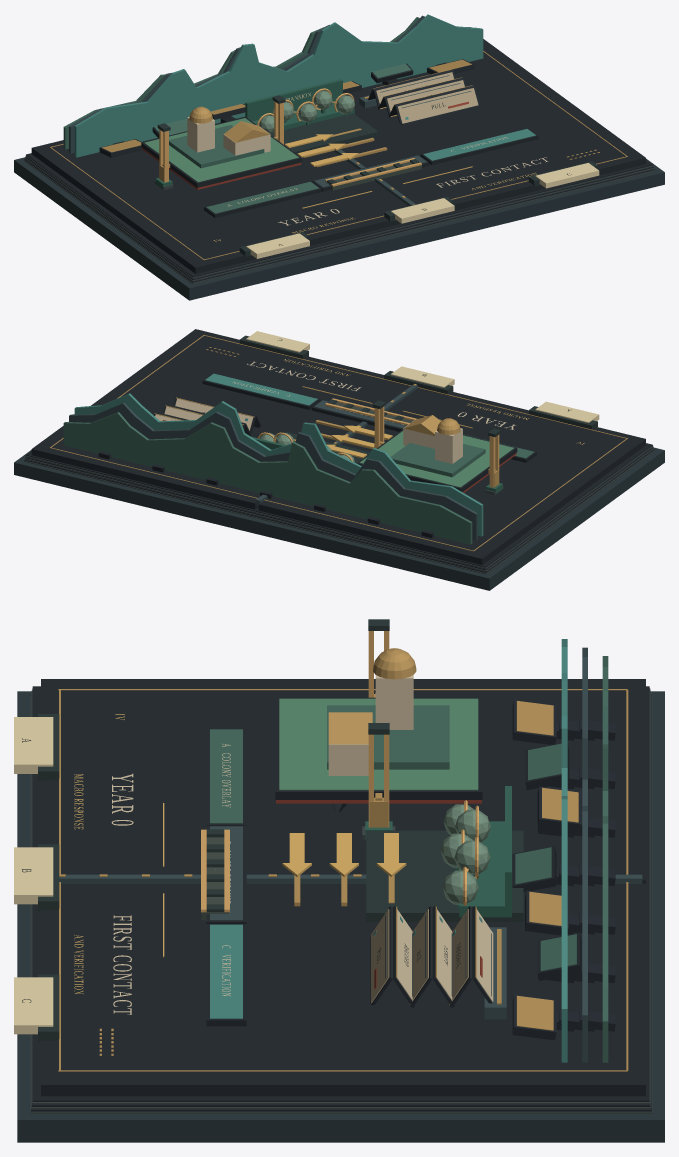
File: palimpsest-f04.glb
3 views of the same model, one above another, from view 1: azimuth 30°, elevation 25°; view 2: azimuth 150°, elevation 25°; view 3: azimuth 270°, elevation 25° (orthographic). The views are drawn at different scales.
Parts seen in each view (by area): view 1: Left/right black paper surface.001, Left/right black paper surface, F04 citadel relief stock layer 02, Bound black cloth cover, Visible black edge of sewn folio 5, A green printed terrace, F04 Expansion assembly graphite bed, C letterpress surface over black-stock edge.005, F04 Expansion raised vellum badge, A raised civic plinth, Visible black edge of sewn folio 1, Visible black edge of sewn folio 2 (+20 smaller); view 2: Left/right black paper surface, Left/right black paper surface.001, F04 citadel relief stock layer 00, Bound black cloth cover, F04 citadel relief stock layer 02, F04 citadel relief stock layer 01, Visible black edge of sewn folio 5, A green printed terrace, A raised civic plinth, Visible black edge of sewn folio 1, Visible black edge of sewn folio 3, Visible black edge of sewn folio 2 (+20 smaller); view 3: Left/right black paper surface.001, Left/right black paper surface, Bound black cloth cover, A green printed terrace, Visible black edge of sewn folio 5, F04 Expansion assembly graphite bed, A raised civic plinth, A black structural colony plate, C VERIFICATION tinted ink face, A COLONY OVERLAY tinted ink face, F04 citadel relief stock layer 02, Visible black edge of sewn folio 2 (+44 smaller).
Part boxes in pixels (x1,y1,x2,y2): Left/right black paper surface.001: (341,39,645,210); Left/right black paper surface: (31,116,407,273); F04 citadel relief stock layer 02: (74,14,483,157); Bound black cloth cover: (14,157,664,300); Visible black edge of sewn folio 5: (26,153,652,277); A green printed terrace: (144,118,298,182); F04 Expansion assembly graphite bed: (270,113,378,155); C letterpress surface over black-stock edge.005: (397,88,478,123); F04 Expansion raised vellum badge: (245,79,342,121); A raised civic plinth: (169,125,264,168); Visible black edge of sewn folio 1: (24,159,654,282); Visible black edge of sewn folio 2: (25,157,653,281); Left/right black paper surface: (258,388,645,564); Left/right black paper surface.001: (31,329,410,509); F04 citadel relief stock layer 00: (63,412,472,544); Bound black cloth cover: (14,447,664,590); F04 citadel relief stock layer 02: (74,393,483,536); F04 citadel relief stock layer 01: (69,402,477,540); Visible black edge of sewn folio 5: (26,443,652,567); A green printed terrace: (359,431,513,487); A raised civic plinth: (391,443,485,477); Visible black edge of sewn folio 1: (24,449,654,572); Visible black edge of sewn folio 3: (25,447,653,570); Visible black edge of sewn folio 2: (25,448,653,571); Left/right black paper surface.001: (41,883,645,1096); Left/right black paper surface: (41,679,645,883); Bound black cloth cover: (17,691,664,1142); A green printed terrace: (279,698,478,790); Visible black edge of sewn folio 5: (32,686,649,1101); F04 Expansion assembly graphite bed: (366,830,523,921); A raised civic plinth: (327,705,449,769); A black structural colony plate: (275,697,482,799); C VERIFICATION tinted ink face: (210,924,242,1018); A COLONY OVERLAY tinted ink face: (210,729,242,823); F04 citadel relief stock layer 02: (561,639,567,1062); Visible black edge of sewn folio 2: (31,692,651,1109).
Size of the model in its own units: 6.45 by 1.27 by 4.14.
